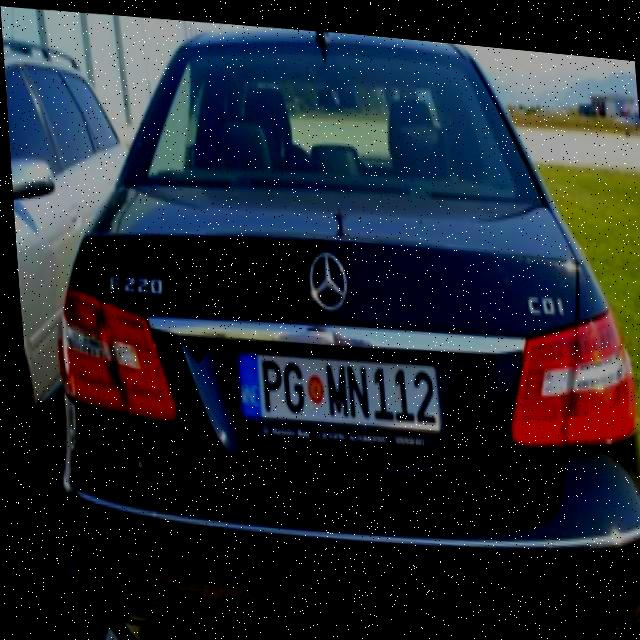license_plate: (230, 342, 441, 444)
